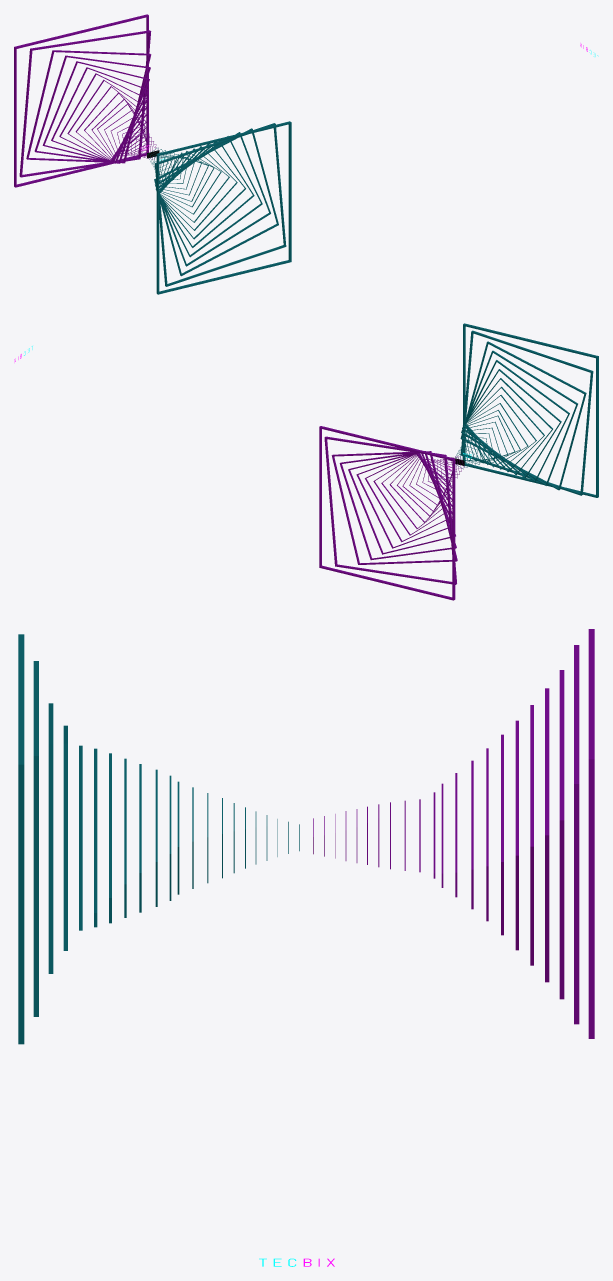
The model's file is aboutTest.glb.
The picture shows the model from 3 angles, top to bottom: view 1: azimuth 30°, elevation 25°; view 2: azimuth 150°, elevation 25°; view 3: azimuth 270°, elevation 25°; orthographic projection. The views are drawn at different scales.
Visible parts, largest first — view 1: Object_2.001, Object_2; view 2: Object_2, Object_2.001; view 3: Object_2, Object_2.001.
Boxes of the visible parts, <box> form: Object_2.001: <box>147,121,291,294</box>; Object_2: <box>14,14,158,187</box>; Object_2: <box>319,426,464,600</box>; Object_2.001: <box>455,323,598,497</box>; Object_2: <box>313,629,594,1038</box>; Object_2.001: <box>18,634,299,1044</box>.
Bounding box in the file's own units: 58.94 × 16.01 × 29.34.
